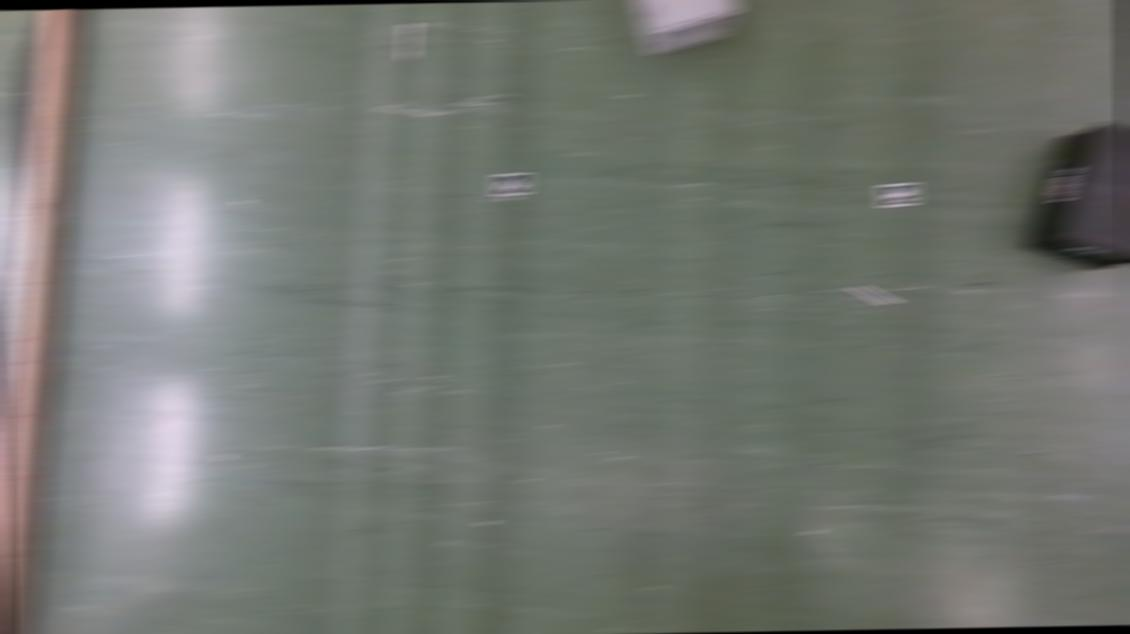probes: (849, 286, 896, 306), (400, 23, 417, 61)
rako: (1021, 122, 1130, 273), (624, 0, 742, 57)
